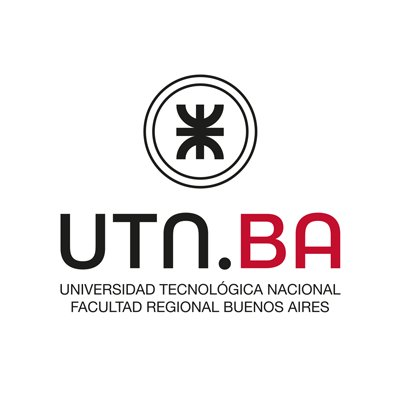utn: (171, 102, 225, 161)
